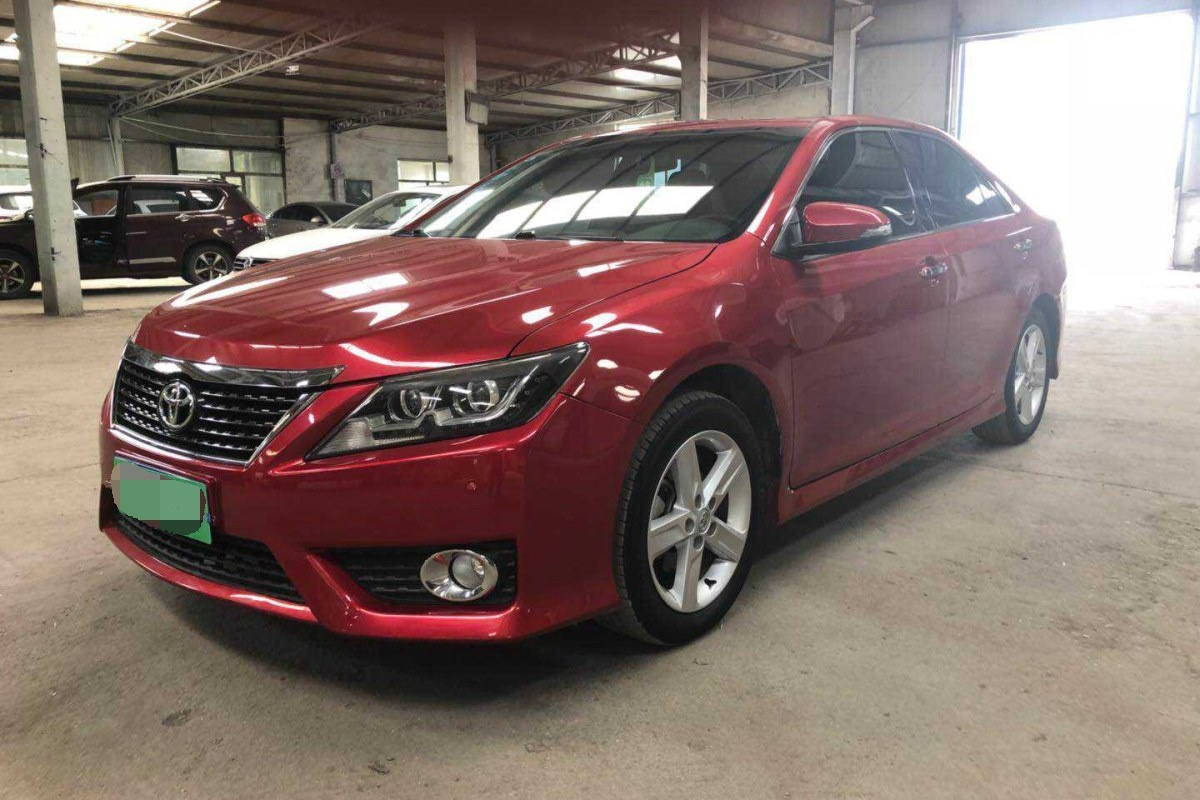family sedan: (107, 138, 1073, 629)
